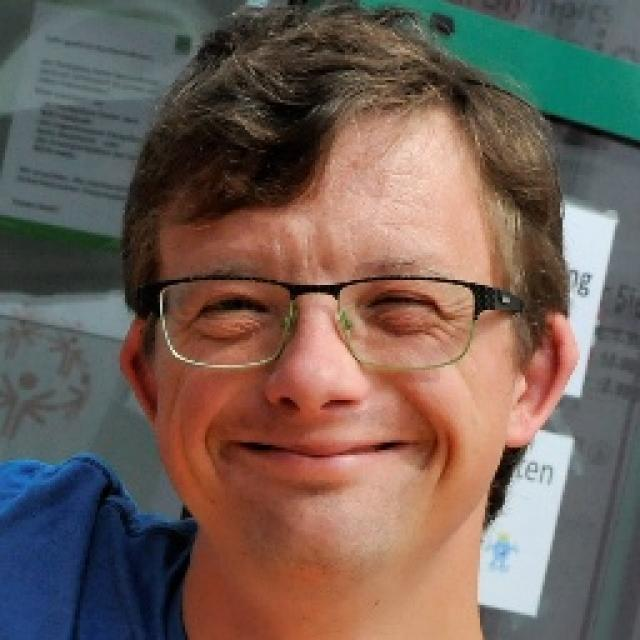earlobe: (505, 312, 579, 448), (118, 318, 160, 427)
